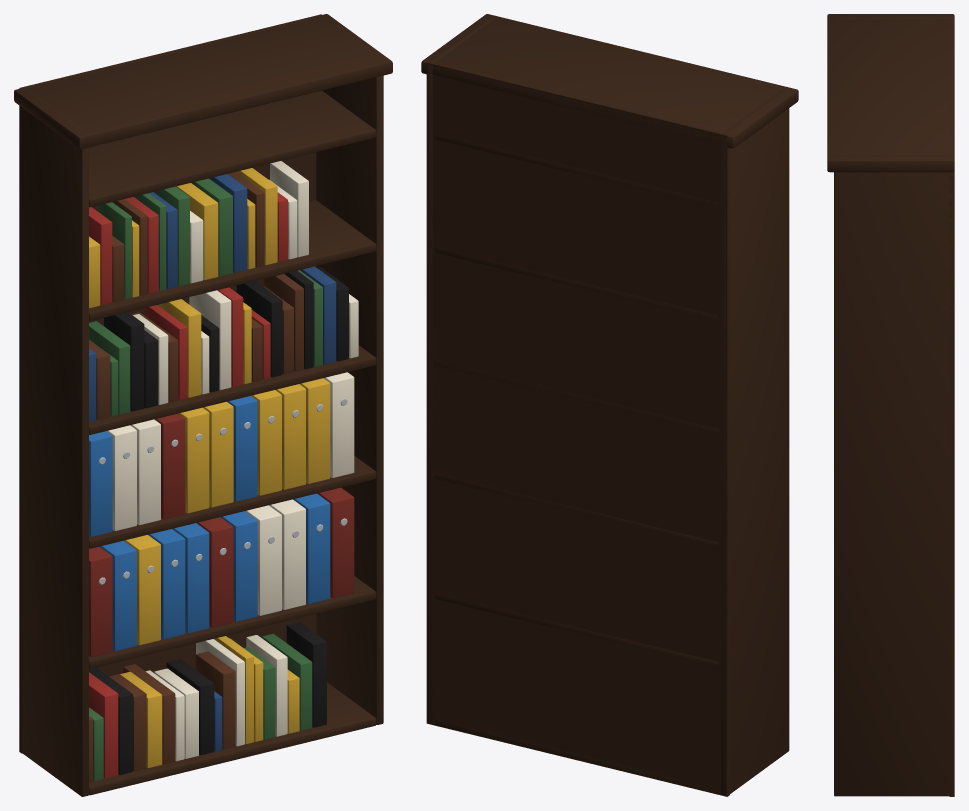
File: mae_bookcase.glb
The picture shows the model from 3 angles, left to right: view 1: azimuth 30°, elevation 25°; view 2: azimuth 150°, elevation 25°; view 3: azimuth 270°, elevation 25°; orthographic projection. The views are drawn at different scales.
Visible parts, largest first — view 1: mae_bookcase; view 2: mae_bookcase; view 3: mae_bookcase.
Part boxes in pixels (x1=…): mae_bookcase: x1=14, y1=14, x2=392, y2=796; mae_bookcase: x1=421, y1=14, x2=798, y2=796; mae_bookcase: x1=827, y1=14, x2=954, y2=796.
Size of the model in its own units: 1.04 by 2.1 by 0.38.
